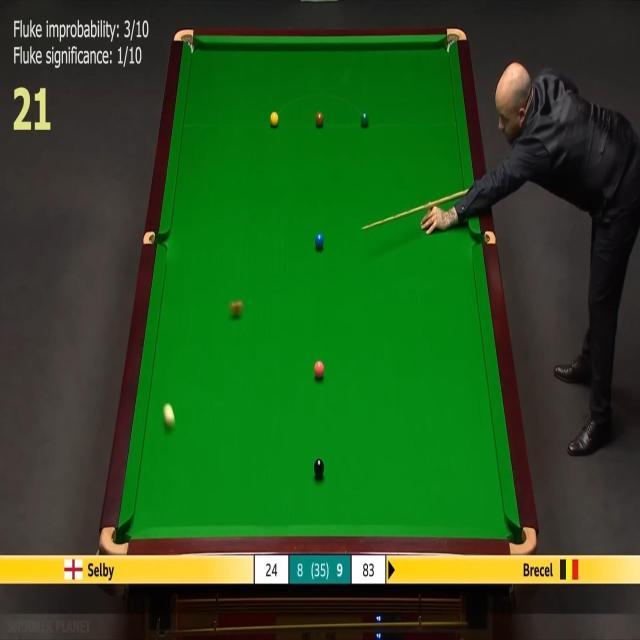Ball: (163, 403, 175, 428), (231, 298, 242, 318), (314, 458, 324, 478), (314, 232, 324, 250), (314, 361, 324, 378), (360, 112, 370, 126), (316, 112, 324, 126), (270, 112, 278, 126)
